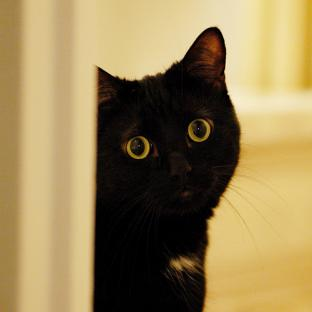Animal: (94, 27, 240, 311)
